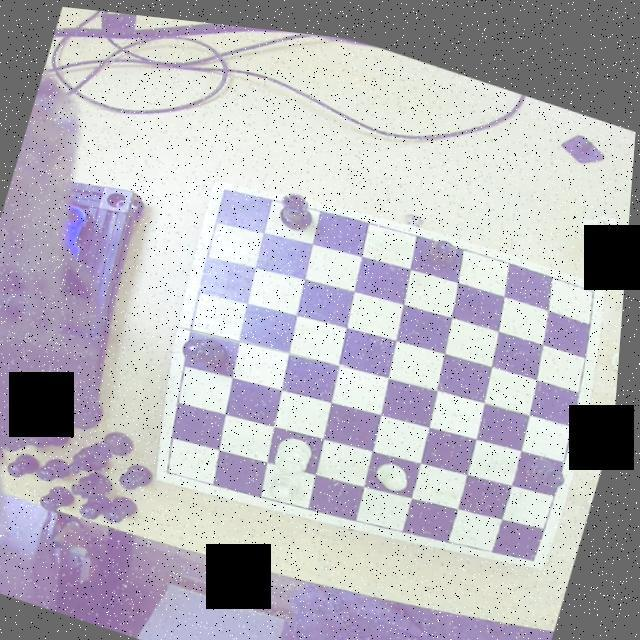chess-table-corners: (212, 174, 245, 204), (159, 450, 189, 479), (522, 532, 554, 558), (582, 268, 608, 293)
